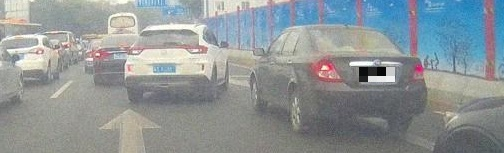L_light: (311, 59, 341, 82), (127, 46, 145, 55)
R_light: (410, 63, 425, 81), (185, 45, 209, 55)
T_light: (344, 28, 359, 32), (159, 45, 173, 49)
day-left: (304, 24, 427, 133)
day-no: (124, 24, 210, 101)
plate_1: (359, 67, 395, 82)
